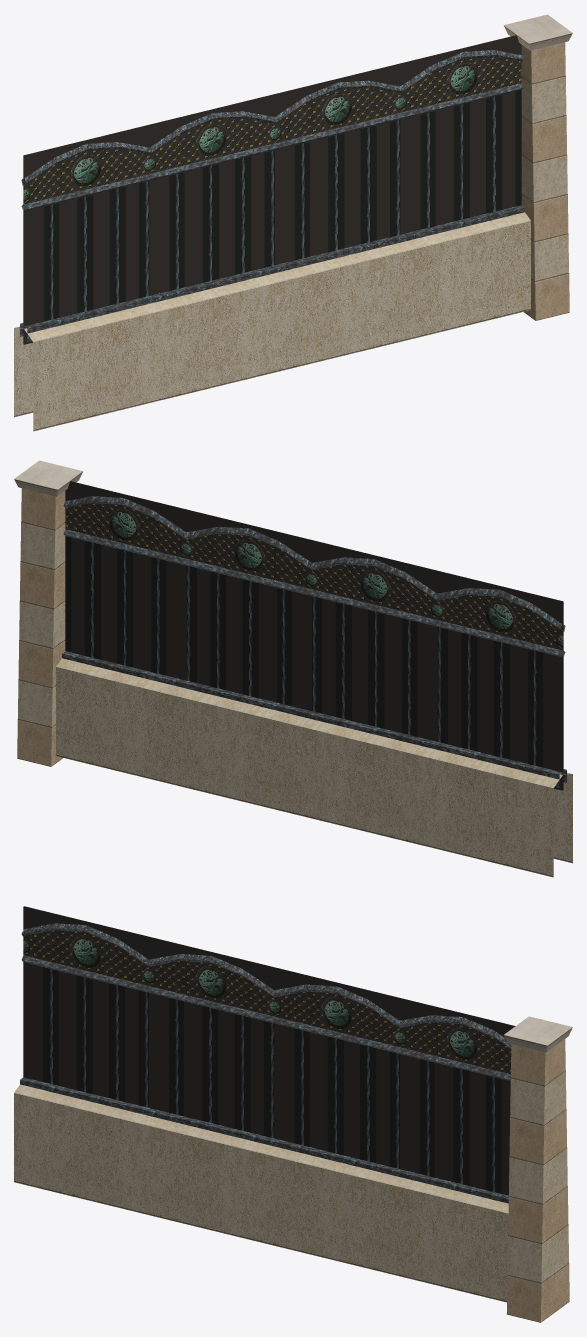
The model's file is thm_nboo_imprv_metal_fence_wall_sml_s01_l0.fbx.
The picture shows the model from 3 angles, top to bottom: view 1: azimuth 30°, elevation 25°; view 2: azimuth 150°, elevation 25°; view 3: azimuth 330°, elevation 25°; orthographic projection.
Parts seen in each view (by area): view 1: mesh_node; view 2: mesh_node; view 3: mesh_node.
Part boxes in pixels (x1=…): mesh_node: x1=14, y1=14, x2=572, y2=431; mesh_node: x1=14, y1=460, x2=572, y2=877; mesh_node: x1=14, y1=906, x2=572, y2=1322.
Size of the model in its own units: 3.21 by 1.58 by 0.3.
